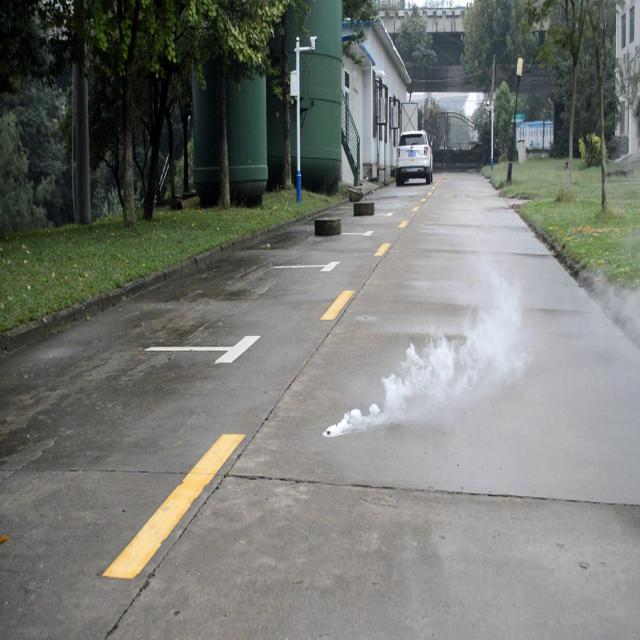smoke: (324, 258, 532, 436), (586, 275, 637, 347)
